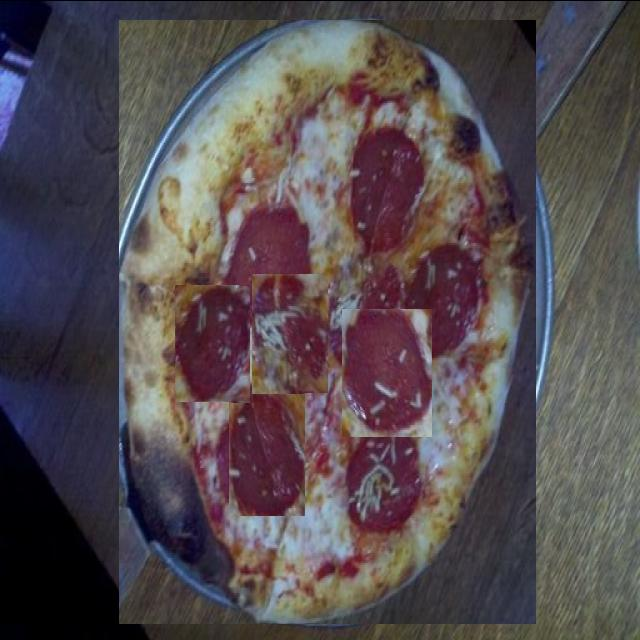pepperoni: (354, 128, 439, 264), (342, 308, 432, 436), (229, 388, 305, 514), (252, 273, 328, 392), (176, 284, 252, 401), (235, 110, 307, 216)
pizza: (119, 19, 536, 623)
